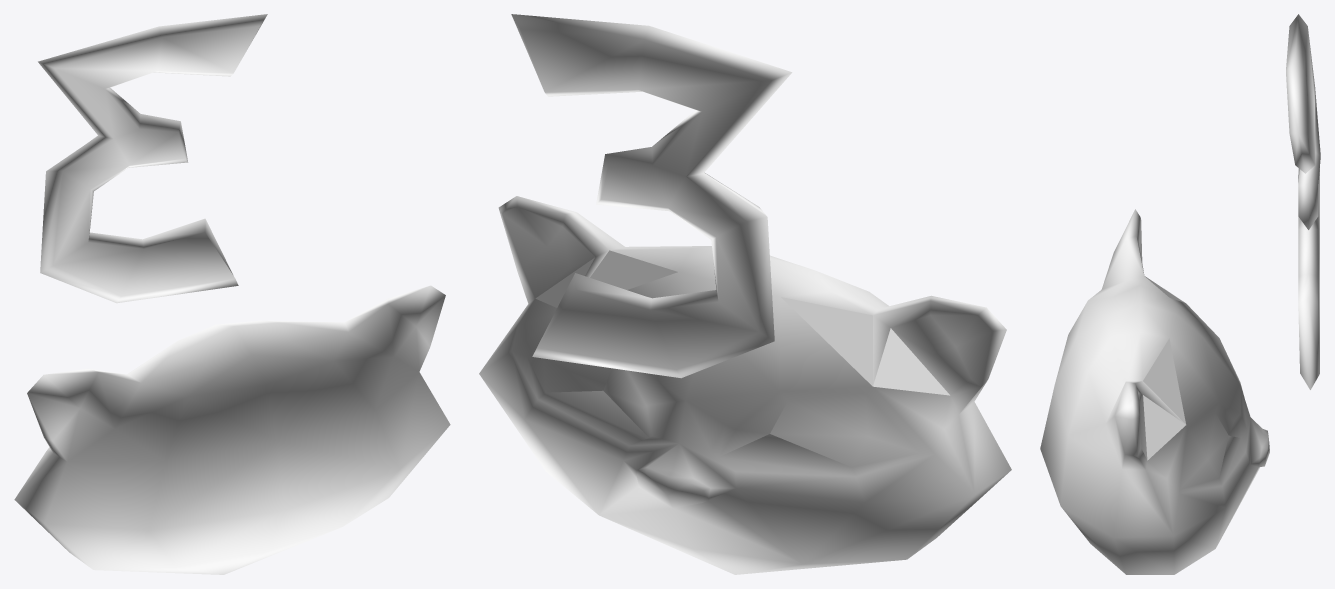
The model's file is memcard_icon.ico.obj.
3 renders of one model, left to right at view 1: azimuth 30°, elevation 25°; view 2: azimuth 150°, elevation 25°; view 3: azimuth 270°, elevation 25°, orthographic. The views are drawn at different scales.
Bounding box in the file's own units: 4.04 × 4.6 × 2.37.
1 material, 1 textured.
